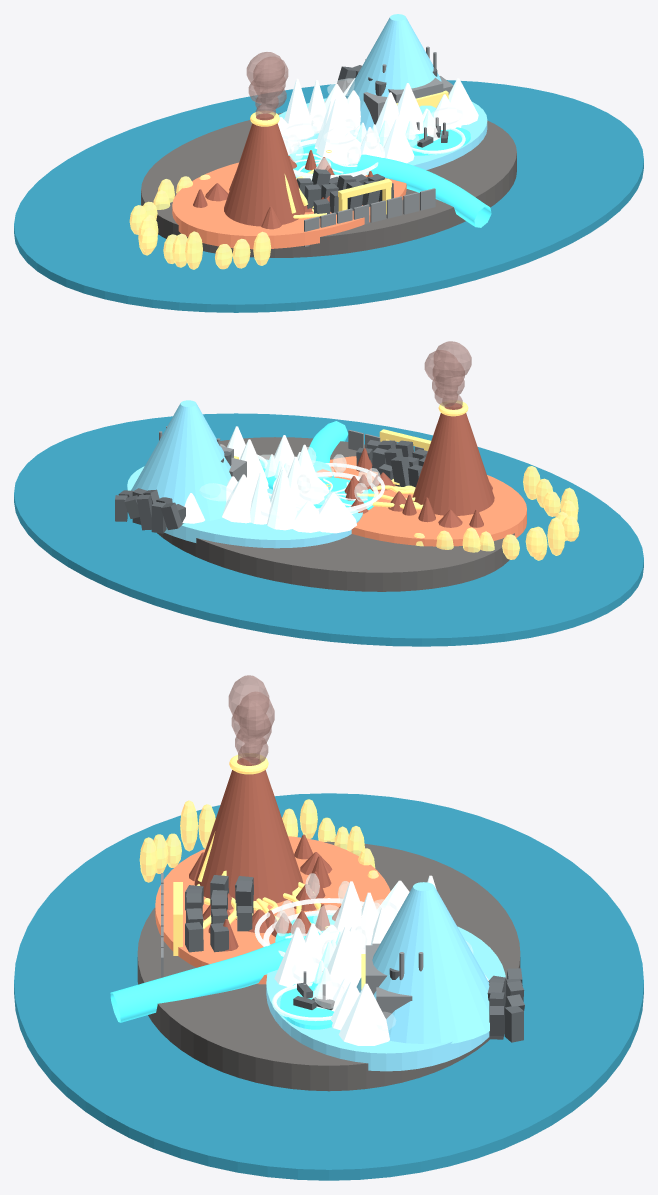
Rendered from punk-hazard-geographic-system.glb.
3 views of the same model, one above another, from view 1: azimuth 30°, elevation 25°; view 2: azimuth 150°, elevation 25°; view 3: azimuth 270°, elevation 25° (orthographic). The views are drawn at different scales.
Visible parts, largest first — view 1: Punk Hazard outer sea, Punk Hazard rock rim, Burning Lands shelf, Burning Lands volcano, Institute mountain, Crater sea channel, Ice Lands shelf, Volcanic smoke 7, Ice mountain 15, Ice mountain 10, Ice mountain 20, Ice mountain 18 (+19 smaller); view 2: Punk Hazard outer sea, Punk Hazard rock rim, Institute mountain, Burning Lands shelf, Burning Lands volcano, Ice Lands shelf, Crater sea channel, Ice mountain 10, Volcanic smoke 7, Ice mountain 12, Ice mountain 08, Volcanic smoke 6 (+13 smaller); view 3: Punk Hazard outer sea, Punk Hazard rock rim, Institute mountain, Burning Lands volcano, Burning Lands shelf, Ice Lands shelf, Crater sea channel, Ice mountain 23, Volcanic smoke 7, Ice mountain 18, Volcanic smoke 6, Ice mountain 20 (+5 smaller).
Part boxes in pixels (x1,y1,x2,y2): Punk Hazard outer sea: (14, 80, 643, 312); Punk Hazard rock rim: (141, 112, 516, 257); Burning Lands shelf: (172, 162, 406, 249); Burning Lands volcano: (224, 113, 305, 226); Institute mountain: (345, 14, 441, 131); Crater sea channel: (356, 154, 491, 227); Ice Lands shelf: (279, 98, 487, 169); Volcanic smoke 7: (246, 52, 284, 89); Ice mountain 15: (316, 98, 349, 158); Ice mountain 10: (284, 78, 313, 139); Ice mountain 20: (397, 83, 424, 134); Ice mountain 18: (383, 118, 414, 163); Punk Hazard outer sea: (14, 413, 643, 646); Punk Hazard rock rim: (157, 437, 516, 591); Institute mountain: (131, 400, 231, 521); Burning Lands shelf: (317, 456, 526, 546); Burning Lands volcano: (412, 403, 494, 515); Ice Lands shelf: (127, 459, 362, 548); Crater sea channel: (308, 421, 348, 479); Ice mountain 10: (267, 469, 297, 530); Volcanic smoke 7: (434, 341, 471, 378); Ice mountain 12: (318, 492, 356, 533); Ice mountain 08: (222, 474, 254, 523); Volcanic smoke 6: (424, 350, 459, 384); Punk Hazard outer sea: (14, 793, 643, 1180); Punk Hazard rock rim: (137, 841, 520, 1091); Institute mountain: (356, 882, 489, 1043); Burning Lands volcano: (194, 758, 303, 903); Burning Lands shelf: (155, 836, 390, 984); Ice Lands shelf: (266, 926, 505, 1071); Crater sea channel: (110, 938, 291, 1022); Ice mountain 23: (338, 983, 389, 1045); Volcanic smoke 7: (228, 675, 269, 724); Ice mountain 18: (274, 927, 317, 986); Volcanic smoke 6: (237, 691, 274, 738); Ice mountain 20: (327, 926, 361, 992).
Size of the model in its own units: 33.41 by 10.52 by 23.62.
